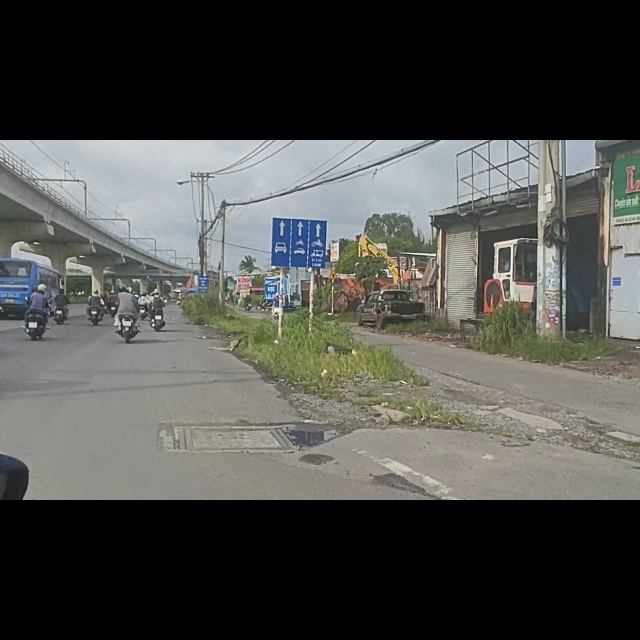bien_nguy_hiem: (271, 135, 327, 230), (326, 230, 340, 248)
